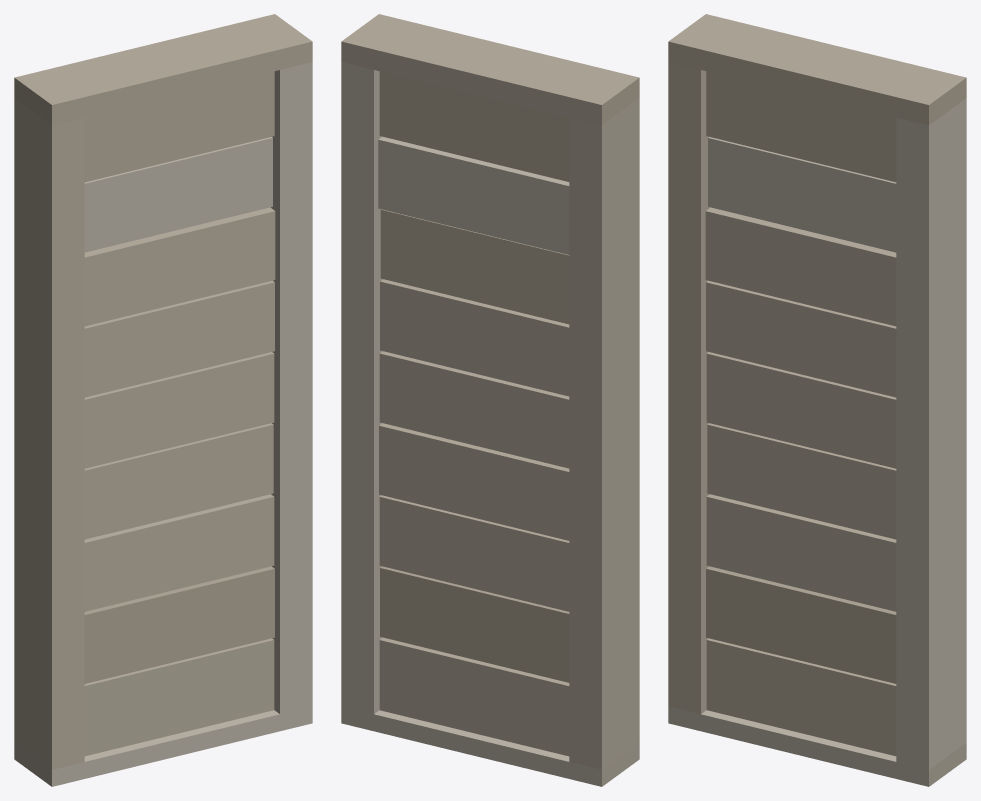
File: TallWall4.glb
The picture shows the model from 3 angles, left to right: view 1: azimuth 30°, elevation 25°; view 2: azimuth 150°, elevation 25°; view 3: azimuth 330°, elevation 25°; orthographic projection.
Visible parts, largest first — view 1: Wood; view 2: Wood; view 3: Wood.
Boxes of the visible parts, box(x1,y1,x2,y2) form: Wood: box(14, 14, 312, 786); Wood: box(341, 14, 639, 786); Wood: box(668, 14, 966, 786).
Size of what is drawn, in the model's own units: 4 by 10 by 1.
